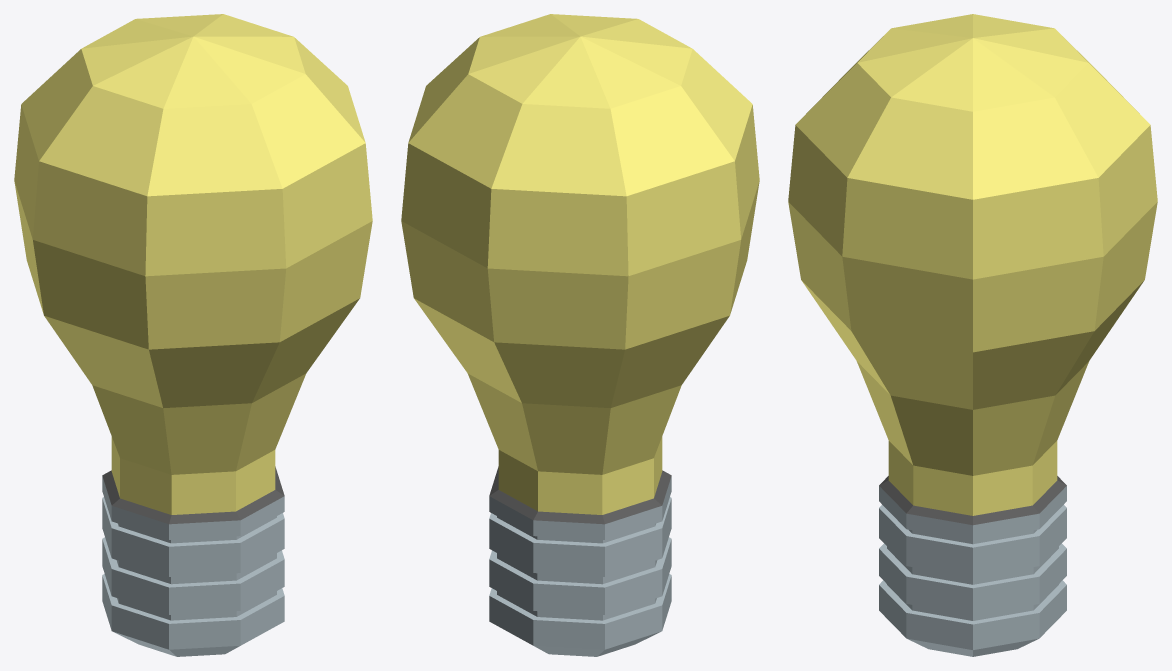
The model's file is Light_bulb_01.gltf.
The picture shows the model from 3 angles, left to right: view 1: azimuth 30°, elevation 25°; view 2: azimuth 150°, elevation 25°; view 3: azimuth 270°, elevation 25°; orthographic projection.
Parts seen in each view (by area): view 1: node-0; view 2: node-0; view 3: node-0.
Part boxes in pixels (left/top/right/bottom): node-0: left=14, top=14, right=372, bottom=656; node-0: left=401, top=14, right=759, bottom=656; node-0: left=788, top=14, right=1157, bottom=656.
Bounding box in the file's own units: 5.49 × 9.99 × 5.49.
